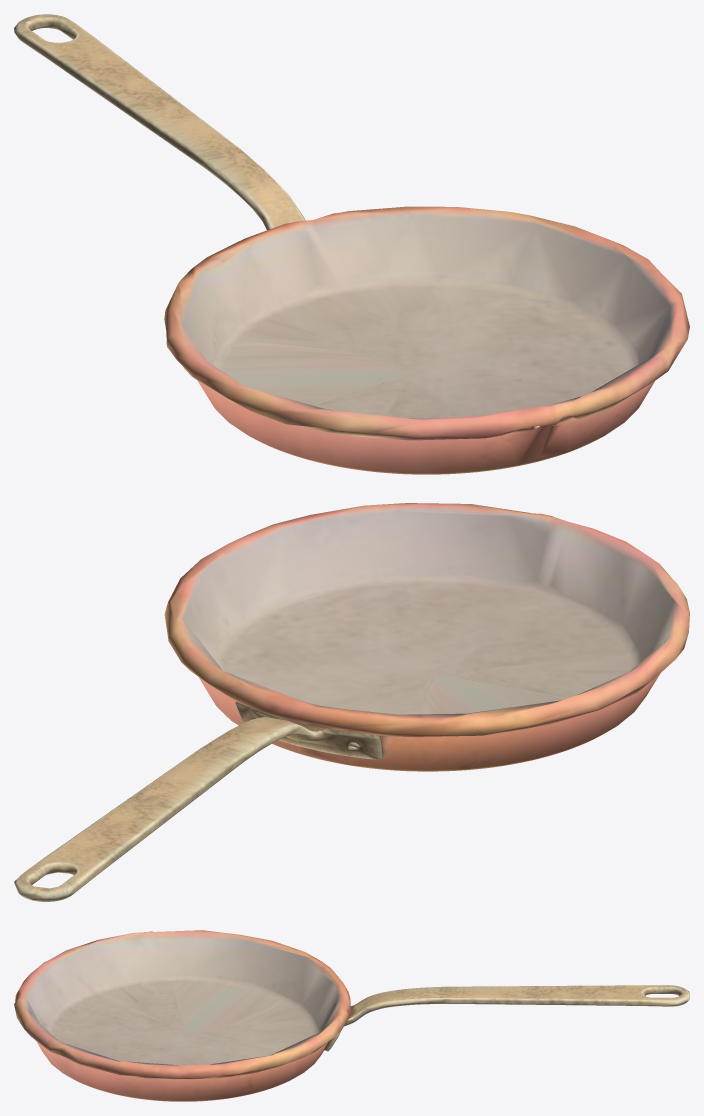
The model's file is cookware_pan_copper_b02.glb.
The picture shows the model from 3 angles, top to bottom: view 1: azimuth 30°, elevation 25°; view 2: azimuth 150°, elevation 25°; view 3: azimuth 270°, elevation 25°; orthographic projection. The views are drawn at different scales.
Parts seen in each view (by area): view 1: sm_cookware_pan_copper_b02_01; view 2: sm_cookware_pan_copper_b02_01; view 3: sm_cookware_pan_copper_b02_01.
Part boxes in pixels (left/top/right/bottom): sm_cookware_pan_copper_b02_01: left=14, top=14, right=689, bottom=474; sm_cookware_pan_copper_b02_01: left=14, top=503, right=689, bottom=901; sm_cookware_pan_copper_b02_01: left=14, top=930, right=689, bottom=1101.
Size of the model in its own units: 0.1984 by 0.0335 by 0.398.
2 materials, 2 textured.
